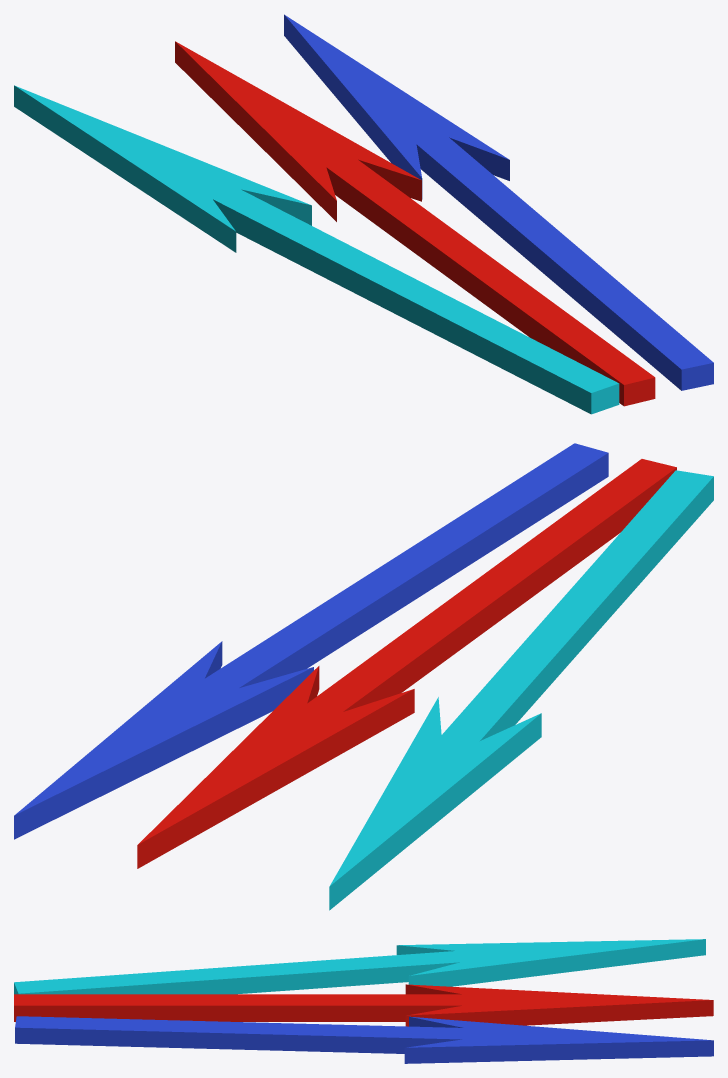
The model's file is arrow.glb.
The picture shows the model from 3 angles, top to bottom: view 1: azimuth 30°, elevation 25°; view 2: azimuth 150°, elevation 25°; view 3: azimuth 270°, elevation 25°; orthographic projection. The views are drawn at different scales.
Parts seen in each view (by area): view 1: north-magnetism, north-true, north-map; view 2: north-map, north-true, north-magnetism; view 3: north-map, north-true, north-magnetism.
Boxes of the visible parts, <box> form: north-magnetism: <box>14,85,619,414</box>; north-true: <box>175,41,655,406</box>; north-map: <box>284,14,713,390</box>; north-map: <box>14,443,608,839</box>; north-true: <box>137,459,676,868</box>; north-magnetism: <box>329,470,713,910</box>; north-map: <box>15,1016,713,1063</box>; north-true: <box>14,984,713,1026</box>; north-magnetism: <box>14,939,705,994</box>.
Bounding box in the file's own units: 0.5164 × 0.036 × 1.41.
